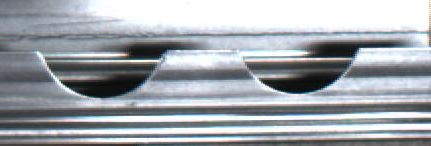twou: (38, 43, 360, 105)
